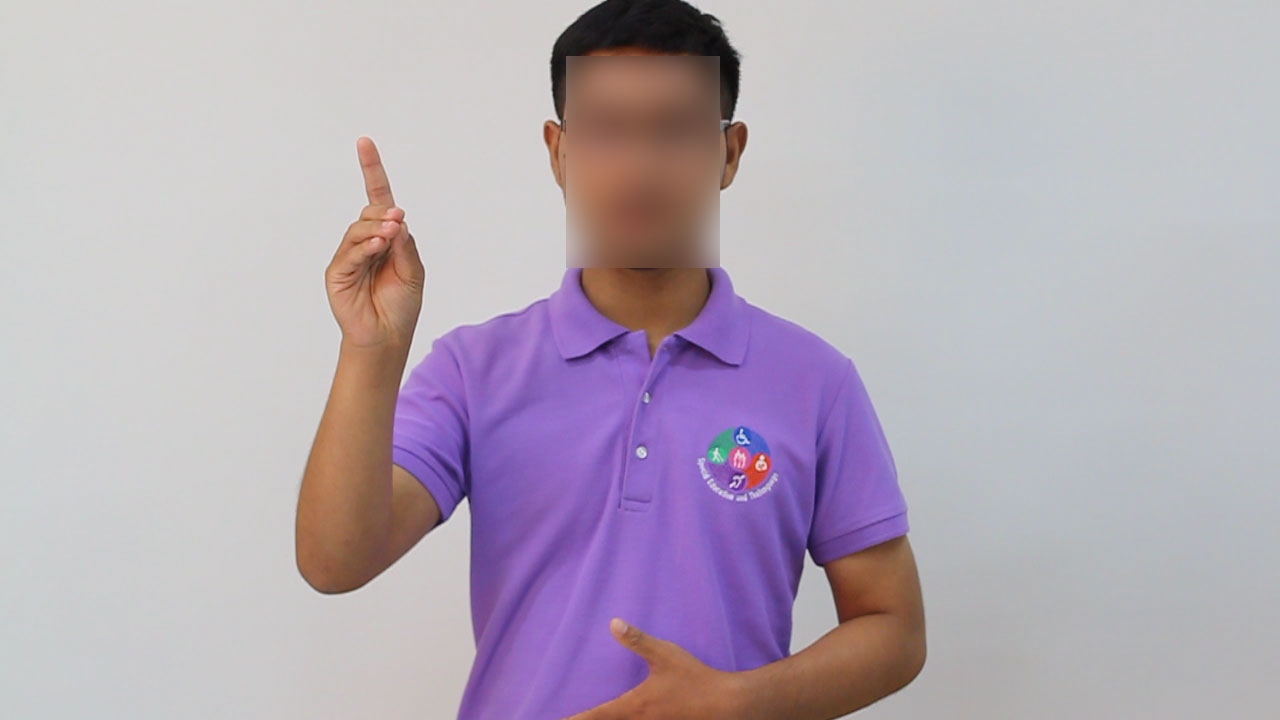dor: (313, 129, 436, 359)
